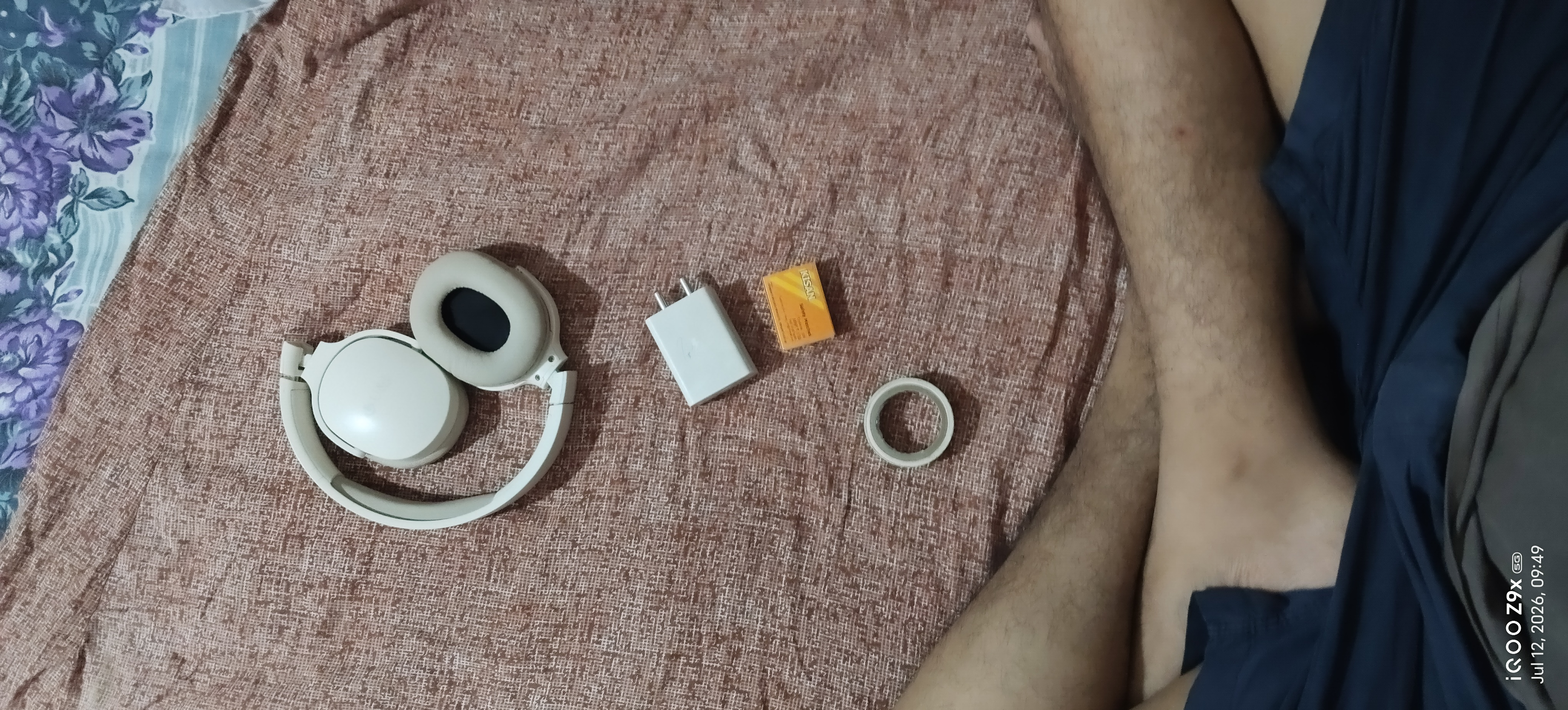charger: (630, 265, 760, 431)
matchbox: (748, 244, 857, 365)
tape_roll: (846, 367, 969, 478)
